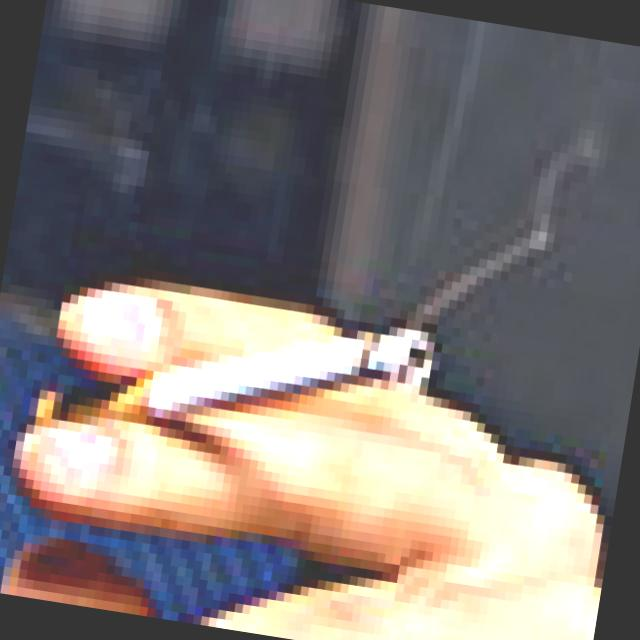smoke: (42, 266, 444, 492)
